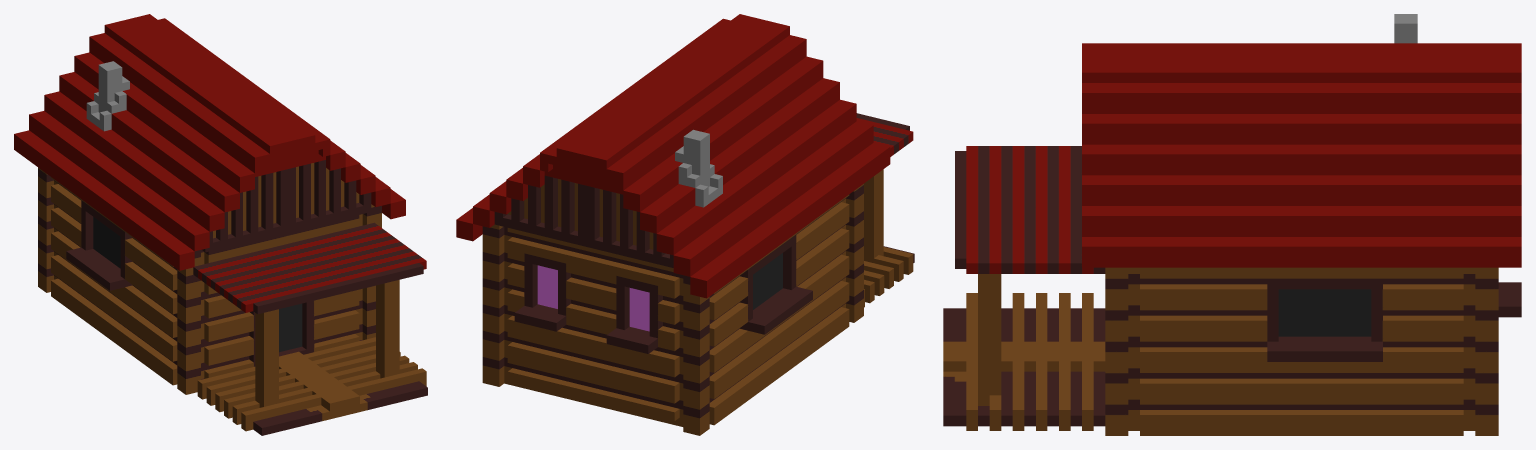
Rendered from House_2.fbx.
3 renders of one model, left to right at view 1: azimuth 30°, elevation 25°; view 2: azimuth 150°, elevation 25°; view 3: azimuth 270°, elevation 25°, orthographic. The views are drawn at different scales.
Visible parts, largest first — view 1: House_2; view 2: House_2; view 3: House_2.
Part boxes in pixels (x1=…): House_2: x1=14, y1=14, x2=427, y2=435; House_2: x1=456, y1=14, x2=914, y2=435; House_2: x1=943, y1=14, x2=1521, y2=435.
Size of the model in its own units: 30 by 30 by 50.
1 material, 1 textured.
